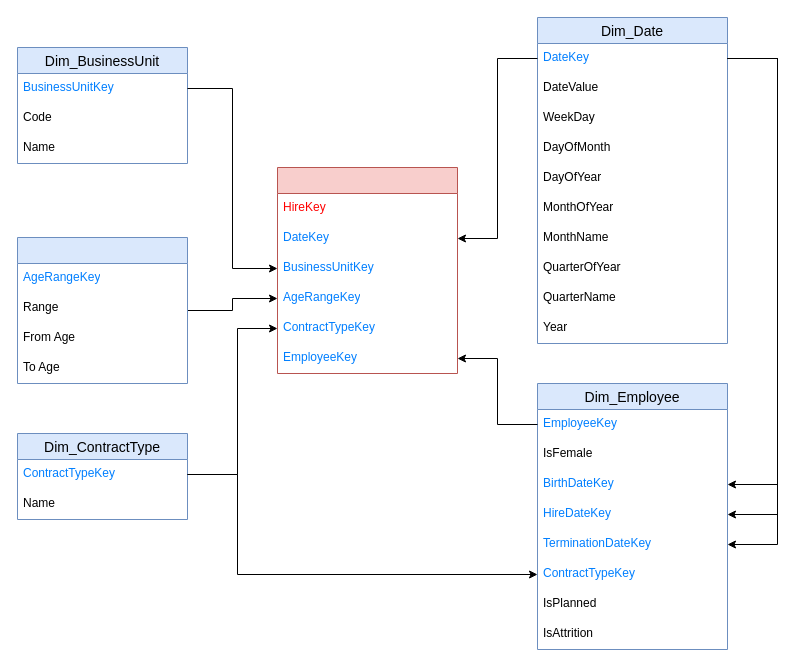
Some shapes in this 803 by 670 pixel diagram are drawn without their labels. The shapes that lost their labels are listed below. From the top down, each one's box as (x1, y1, x2, y2) in pixels, then its label:
(276, 166, 458, 374): Fact_Hire
(16, 236, 188, 384): Dim_AgeRange
